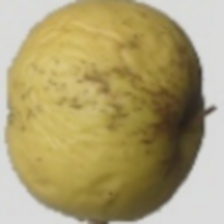apple: (32, 5, 216, 196)
